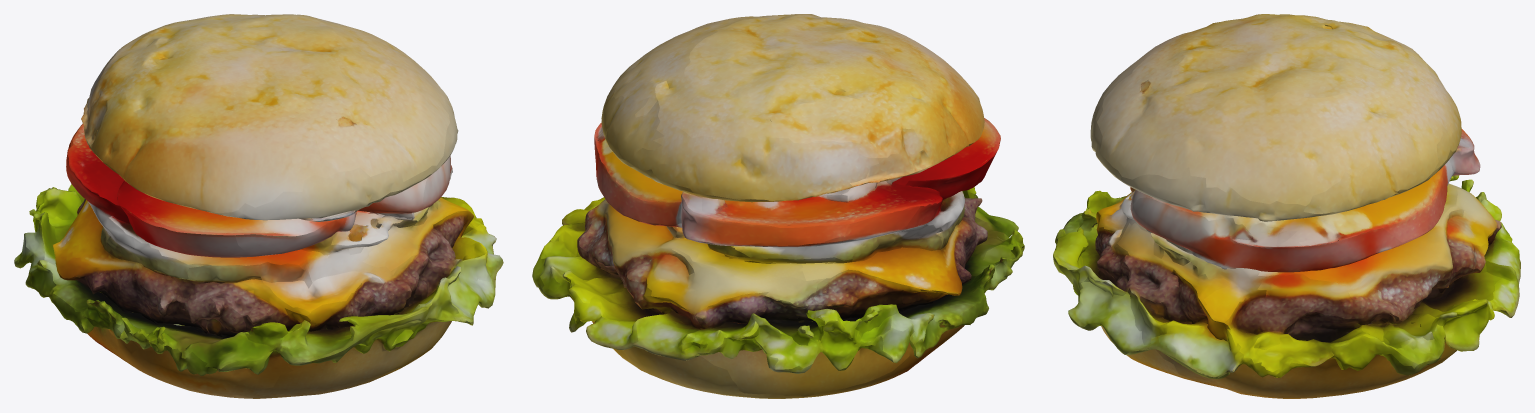
The model's file is item-3d-7de4f9b9-0bce-48f0-9838-78a272d89244.glb.
The picture shows the model from 3 angles, left to right: view 1: azimuth 30°, elevation 25°; view 2: azimuth 150°, elevation 25°; view 3: azimuth 270°, elevation 25°; orthographic projection. The views are drawn at different scales.
Parts seen in each view (by area): view 1: world; view 2: world; view 3: world.
Boxes of the visible parts, x1,y1,x2,y2 form: world: (14,14,503,398); world: (532,14,1024,398); world: (1053,14,1520,398).
Size of the model in its own units: 0.9775 by 0.6542 by 0.998.
Materials: 1 (1 with a texture image).
